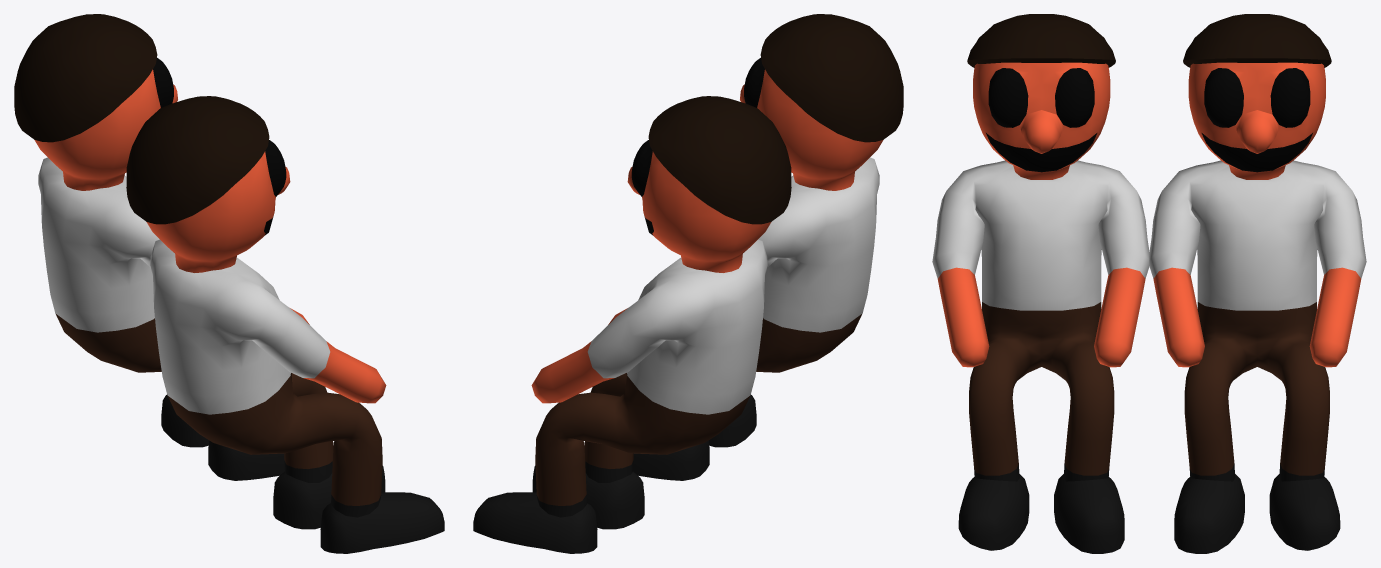
File: peep.obj
The picture shows the model from 3 angles, left to right: view 1: azimuth 30°, elevation 25°; view 2: azimuth 150°, elevation 25°; view 3: azimuth 270°, elevation 25°; orthographic projection. The views are drawn at different scales.
Visible parts, largest first — view 1: Peep_Untitled.027; view 2: Peep_Untitled.027; view 3: Peep_Untitled.027.
Boxes of the visible parts, x1,y1,x2,y2 form: Peep_Untitled.027: (14,14,444,553); Peep_Untitled.027: (473,14,903,553); Peep_Untitled.027: (932,14,1366,553).
Size of the model in its own units: 0.7997 by 1.28 by 1.15.
